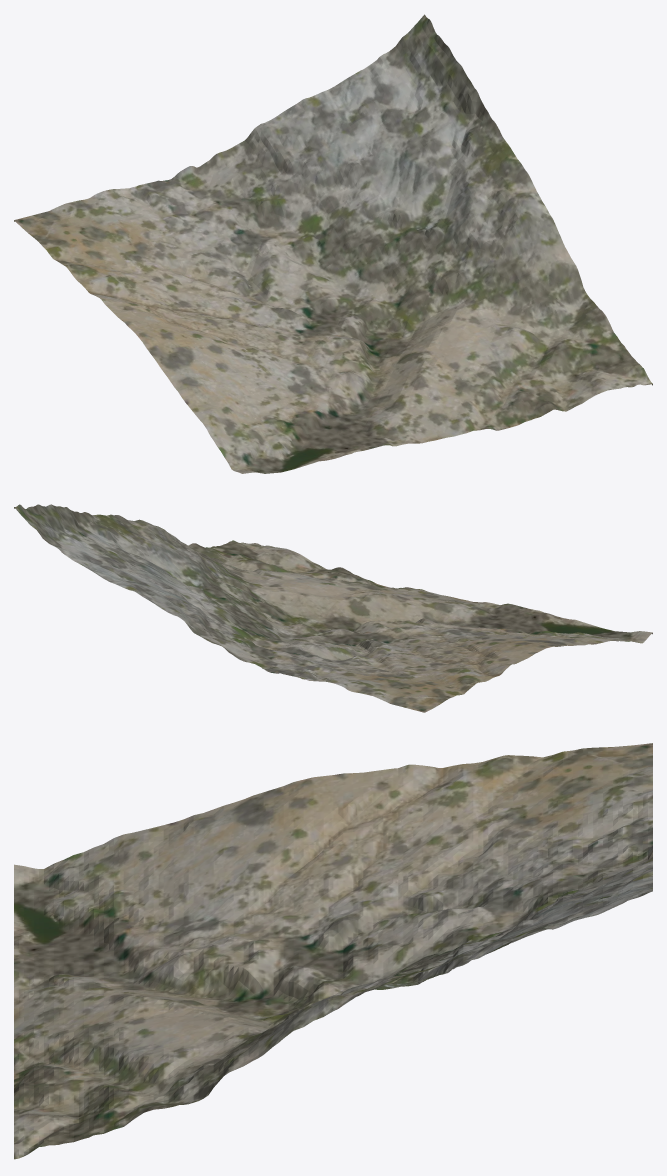
3 renders of one model, top to bottom at view 1: azimuth 30°, elevation 25°; view 2: azimuth 150°, elevation 25°; view 3: azimuth 270°, elevation 25°, orthographic. The views are drawn at different scales.
Bounding box in the file's own units: 250 × 124 × 241.
1 material, 1 textured.
